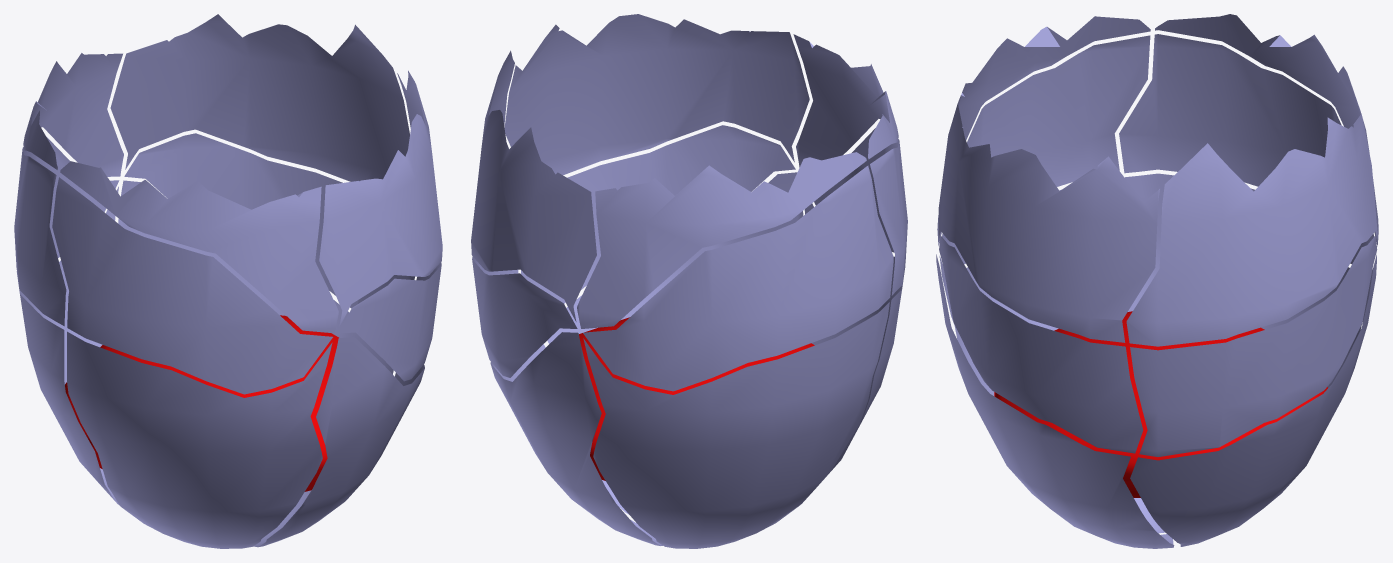
The model's file is BrokenEggPieces.fbx.
The picture shows the model from 3 angles, left to right: view 1: azimuth 30°, elevation 25°; view 2: azimuth 150°, elevation 25°; view 3: azimuth 270°, elevation 25°; orthographic projection. The views are drawn at different scales.
Parts seen in each view (by area): view 1: BrokenEggPiece11, BrokenEggPiece1, BrokenEggPiece6, BrokenEggPiece3, BrokenEggPiece2, BrokenEggPiece9, BrokenEggPiece7, BrokenEggPiece4, BrokenEggPiece5, BrokenEggPiece8, BrokenEggPiece10, BLOODYYETIJUICE (+1 smaller); view 2: BrokenEggPiece10, BrokenEggPiece2, BrokenEggPiece5, BrokenEggPiece4, BrokenEggPiece1, BrokenEggPiece18, BrokenEggPiece8, BrokenEggPiece3, BrokenEggPiece7, BrokenEggPiece6, BrokenEggPiece11, BrokenEggPiece9 (+1 smaller); view 3: BrokenEggPiece1, BrokenEggPiece2, BrokenEggPiece7, BrokenEggPiece5, BrokenEggPiece8, BrokenEggPiece18, BrokenEggPiece6, BrokenEggPiece9, BrokenEggPiece4, BrokenEggPiece3, BLOODYYETIJUICE, BrokenEggPiece10 (+1 smaller).
Boxes of the visible parts, x1,y1,x2,y2 form: BrokenEggPiece11: (67, 331, 332, 548); BrokenEggPiece1: (110, 14, 409, 181); BrokenEggPiece6: (52, 177, 332, 394); BrokenEggPiece3: (60, 161, 338, 333); BrokenEggPiece2: (319, 70, 442, 326); BrokenEggPiece9: (253, 337, 424, 547); BrokenEggPiece7: (124, 133, 415, 308); BrokenEggPiece4: (23, 53, 123, 176); BrokenEggPiece5: (14, 136, 119, 326); BrokenEggPiece8: (338, 262, 441, 381); BrokenEggPiece10: (16, 186, 118, 504); BLOODYYETIJUICE: (65, 315, 338, 491); BrokenEggPiece10: (583, 302, 889, 548); BrokenEggPiece2: (504, 14, 809, 175); BrokenEggPiece5: (583, 165, 893, 391); BrokenEggPiece4: (577, 152, 866, 328); BrokenEggPiece1: (471, 50, 596, 321); BrokenEggPiece18: (490, 332, 662, 545); BrokenEggPiece8: (521, 125, 795, 303); BrokenEggPiece3: (793, 34, 898, 167); BrokenEggPiece7: (472, 256, 577, 377); BrokenEggPiece6: (814, 128, 907, 295); BrokenEggPiece11: (767, 203, 905, 527); BrokenEggPiece9: (547, 172, 803, 514); BrokenEggPiece1: (1126, 114, 1377, 346); BrokenEggPiece2: (938, 103, 1159, 342); BrokenEggPiece7: (1130, 235, 1377, 456); BrokenEggPiece5: (1119, 34, 1374, 263); BrokenEggPiece8: (939, 235, 1143, 453); BrokenEggPiece18: (1130, 254, 1376, 546); BrokenEggPiece6: (942, 35, 1150, 264); BrokenEggPiece9: (936, 254, 1174, 548); BrokenEggPiece4: (1155, 14, 1378, 246); BrokenEggPiece3: (937, 16, 1150, 245); BLOODYYETIJUICE: (994, 311, 1327, 497); BrokenEggPiece10: (1125, 173, 1373, 387).
Bounding box in the file's own units: 2.79 × 3.26 × 2.79.
